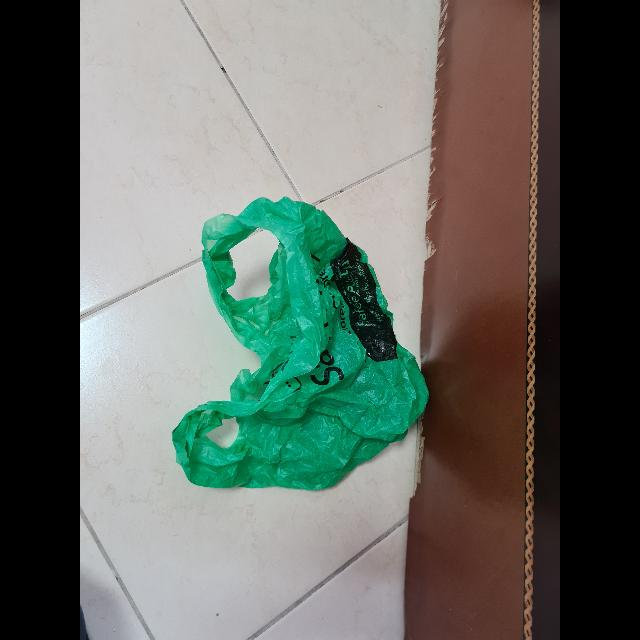plastic_bag: (180, 193, 428, 489)
